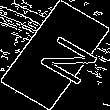N_NW: (18, 25, 92, 85)
